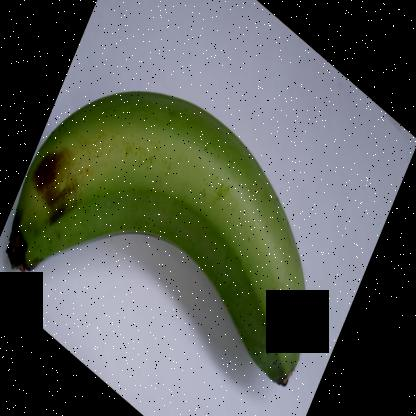freshunripe: (0, 69, 314, 402)
